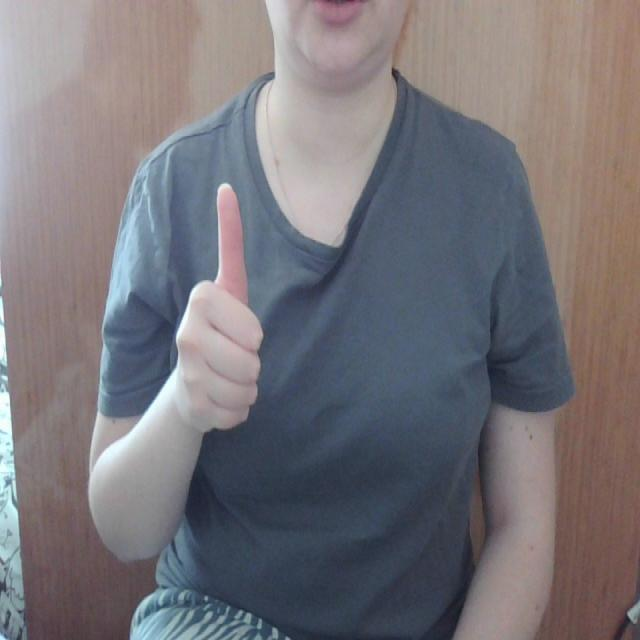Tamam: (166, 178, 269, 440)
